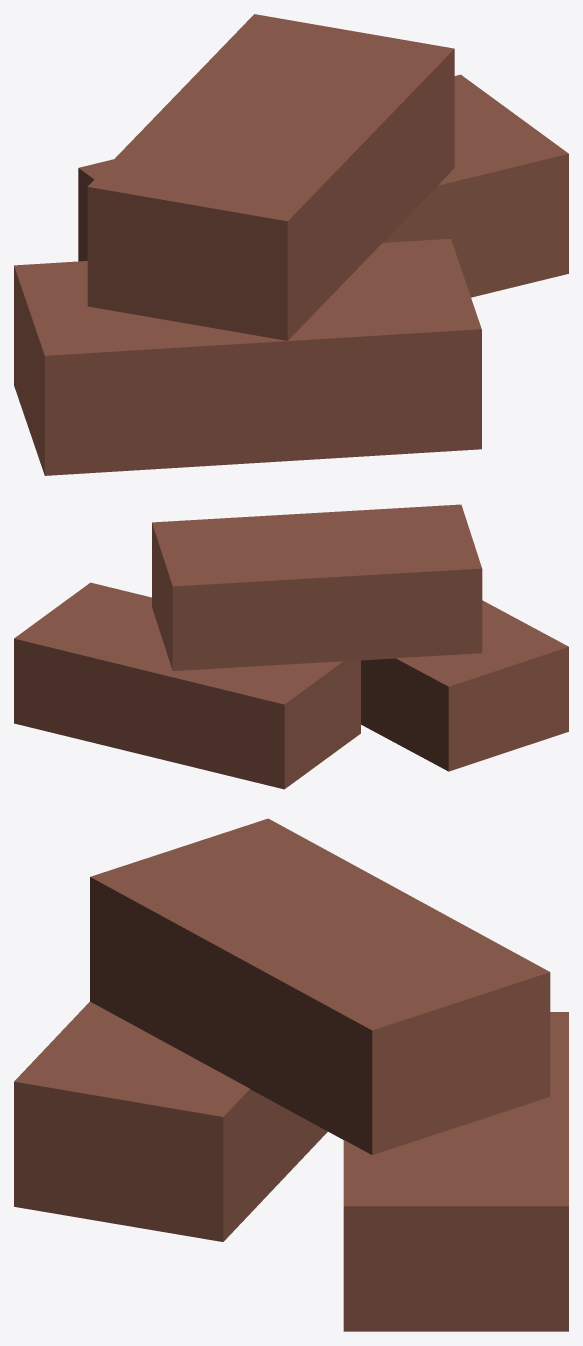
File: Briks.fbx
The picture shows the model from 3 angles, top to bottom: view 1: azimuth 30°, elevation 25°; view 2: azimuth 150°, elevation 25°; view 3: azimuth 270°, elevation 25°; orthographic projection. The views are drawn at different scales.
Visible parts, largest first — view 1: Briks.Mesh; view 2: Briks.Mesh; view 3: Briks.Mesh.
Part boxes in pixels (x1,y1,x2,y2): Briks.Mesh: (14,14,568,475); Briks.Mesh: (14,504,568,789); Briks.Mesh: (14,818,568,1331).
Bounding box in the file's own units: 0.8163 × 0.3115 × 0.6271.
